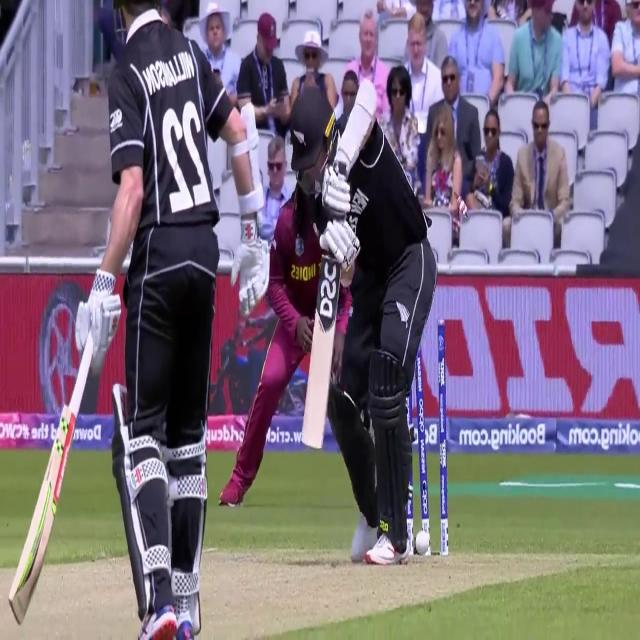ball: (413, 527, 432, 558)
